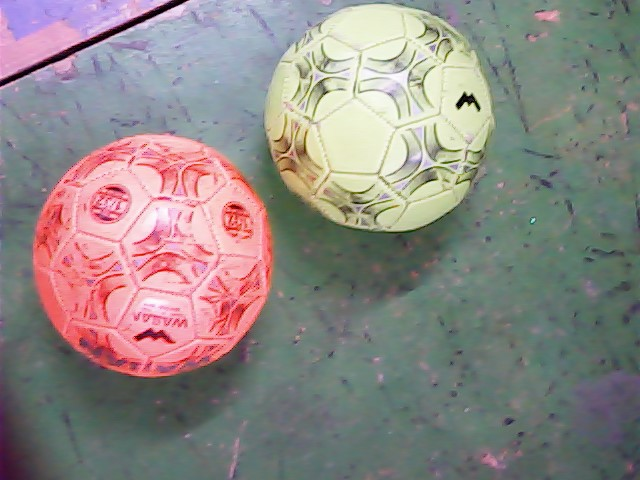Green_ball: (261, 2, 497, 242)
Orange_ball: (25, 133, 287, 374)
